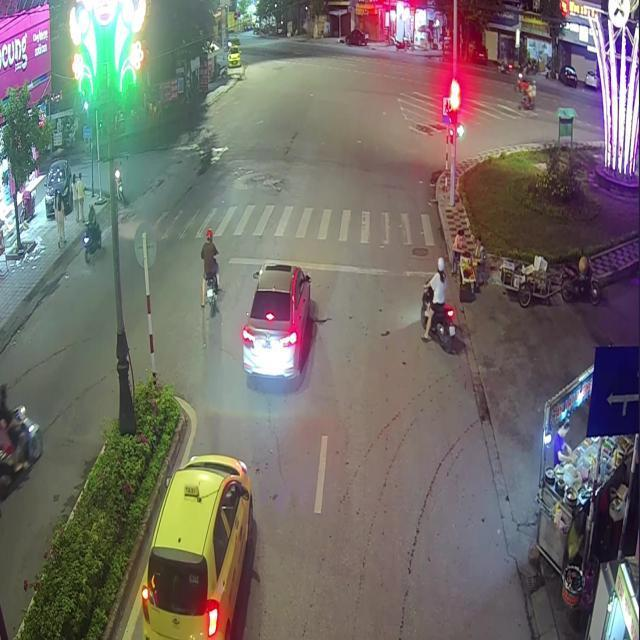car: (140, 453, 251, 638), (240, 262, 310, 379)
motobike: (420, 276, 455, 353), (204, 275, 216, 315)
red_light: (450, 92, 457, 125)
stop_line: (226, 256, 440, 277)
